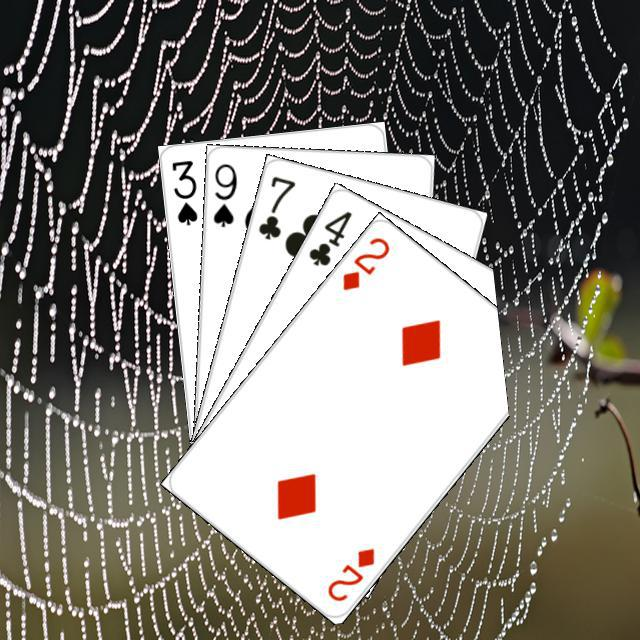2d: (322, 542, 377, 604), (337, 232, 392, 292)
3s: (166, 155, 200, 227)
4c: (303, 206, 354, 268)
7c: (253, 171, 297, 242)
9s: (208, 158, 239, 228)
